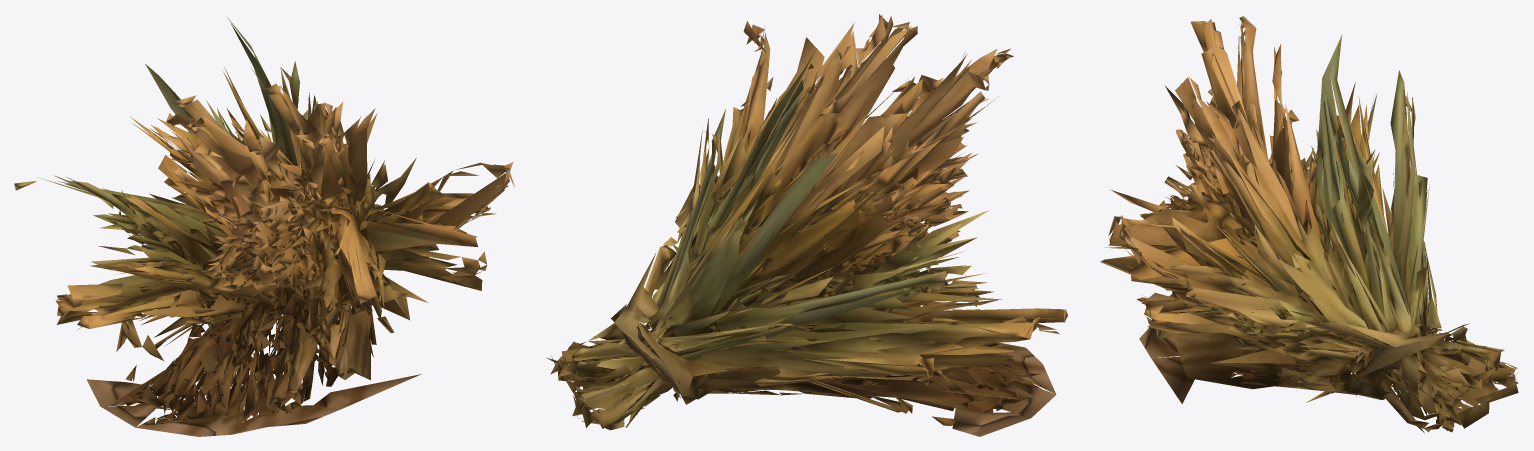
The model's file is mata_coiron.glb.
The picture shows the model from 3 angles, left to right: view 1: azimuth 30°, elevation 25°; view 2: azimuth 150°, elevation 25°; view 3: azimuth 270°, elevation 25°; orthographic projection. The views are drawn at different scales.
Visible parts, largest first — view 1: geometry_0; view 2: geometry_0; view 3: geometry_0.
Boxes of the visible parts, x1,y1,x2,y2 form: geometry_0: [14, 16, 514, 436]; geometry_0: [546, 14, 1067, 436]; geometry_0: [1100, 16, 1518, 433].
Size of the model in its own units: 0.7104 by 0.6069 by 0.701.
1 material, 1 textured.
